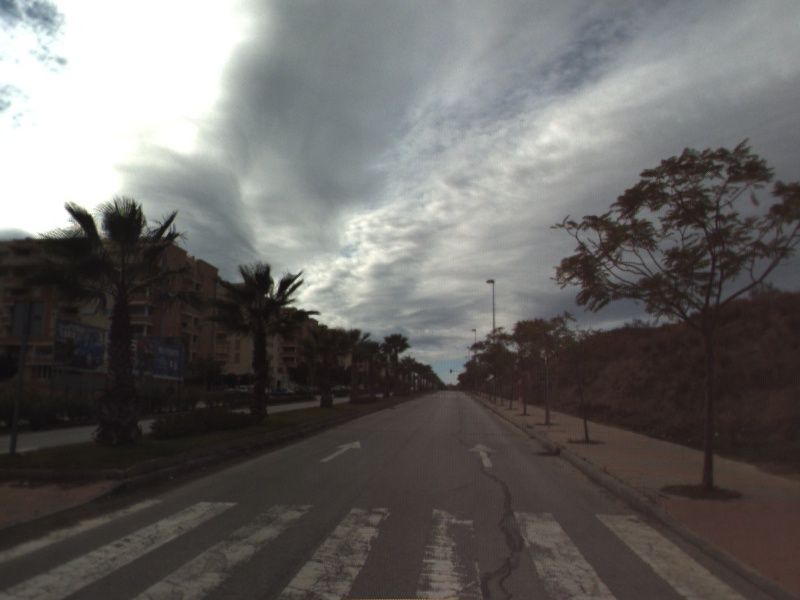STRAIGHT: (318, 438, 363, 464), (467, 441, 499, 469)
